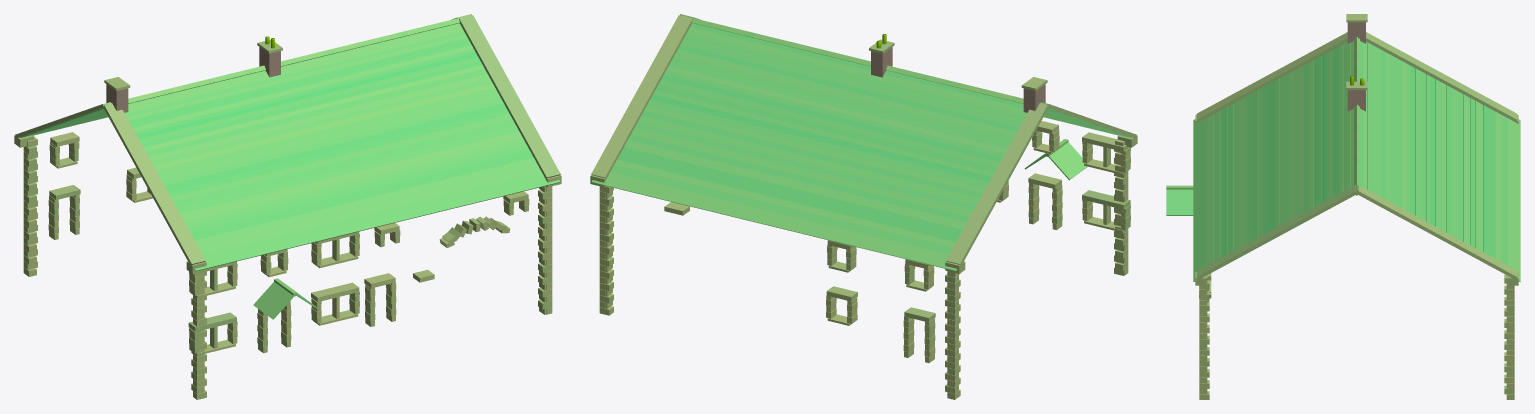
Rendered from SM_Bld_043_Stone.glb.
3 views of the same model, side by side, from view 1: azimuth 30°, elevation 25°; view 2: azimuth 150°, elevation 25°; view 3: azimuth 270°, elevation 25° (orthographic). The views are drawn at different scales.
Visible parts, largest first — view 1: SM_Bld_043_Stone; view 2: SM_Bld_043_Stone; view 3: SM_Bld_043_Stone.
Boxes of the visible parts, bbox=[...] form: SM_Bld_043_Stone: bbox=[14, 14, 561, 399]; SM_Bld_043_Stone: bbox=[590, 14, 1137, 399]; SM_Bld_043_Stone: bbox=[1166, 14, 1520, 399].
Bounding box in the file's own units: 18.95 × 12.79 × 17.36.
